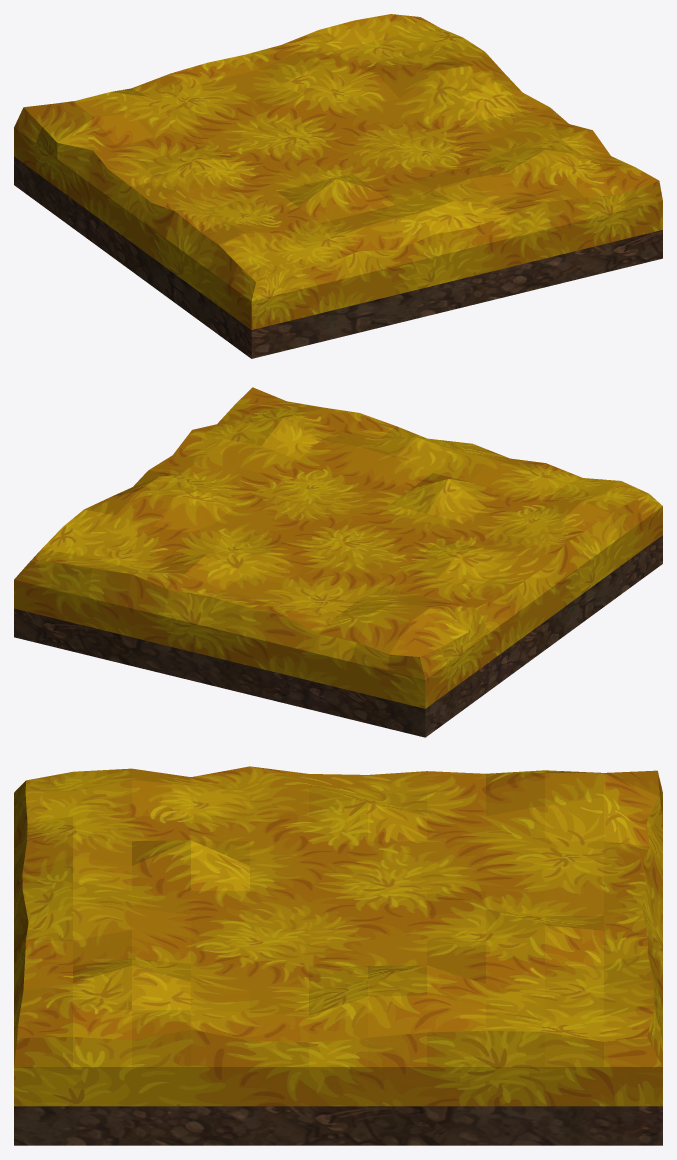
The model's file is deadGrass.fbx.
3 views of the same model, one above another, from view 1: azimuth 30°, elevation 25°; view 2: azimuth 150°, elevation 25°; view 3: azimuth 270°, elevation 25° (orthographic). The views are drawn at different scales.
Visible parts, largest first — view 1: DeadGround; view 2: DeadGround; view 3: DeadGround.
Boxes of the visible parts, x1,y1,x2,y2 form: DeadGround: (14, 14, 662, 358); DeadGround: (14, 387, 662, 737); DeadGround: (14, 766, 662, 1145).
Bounding box in the file's own units: 325 × 72.35 × 325.
2 materials, 2 textured.
